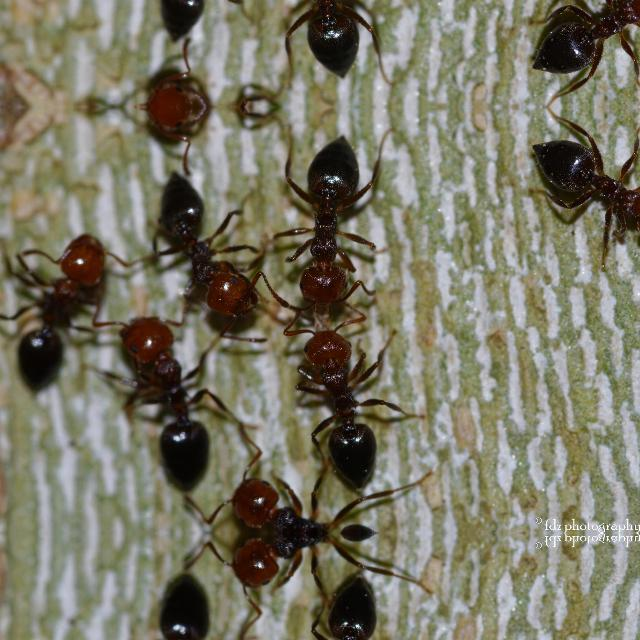Crematogaster: (261, 308, 391, 484), (112, 300, 228, 480), (0, 230, 120, 380), (272, 141, 376, 311), (511, 116, 639, 252), (152, 172, 266, 318), (511, 0, 639, 96), (220, 451, 368, 532), (220, 534, 368, 614), (261, 580, 391, 640), (272, 0, 375, 71), (116, 106, 220, 172), (116, 40, 220, 106), (112, 585, 227, 640), (152, 0, 266, 39)
